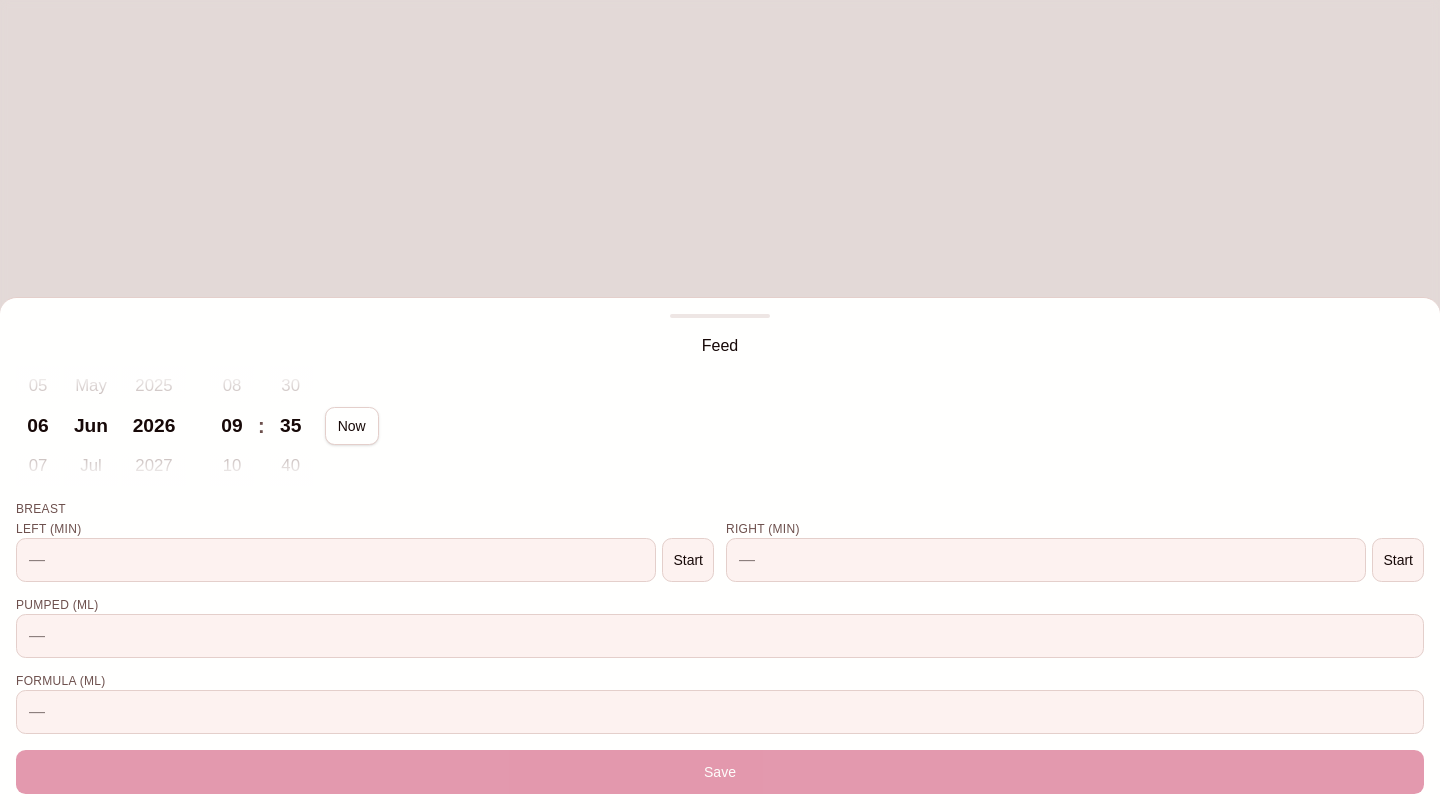
EventSheet — feed › Save button enables once a field is filled
Type "5" into the number field labelled "Left (min)".
click(336, 560); type("5")  # box x1=16 y1=538 x2=656 y2=582
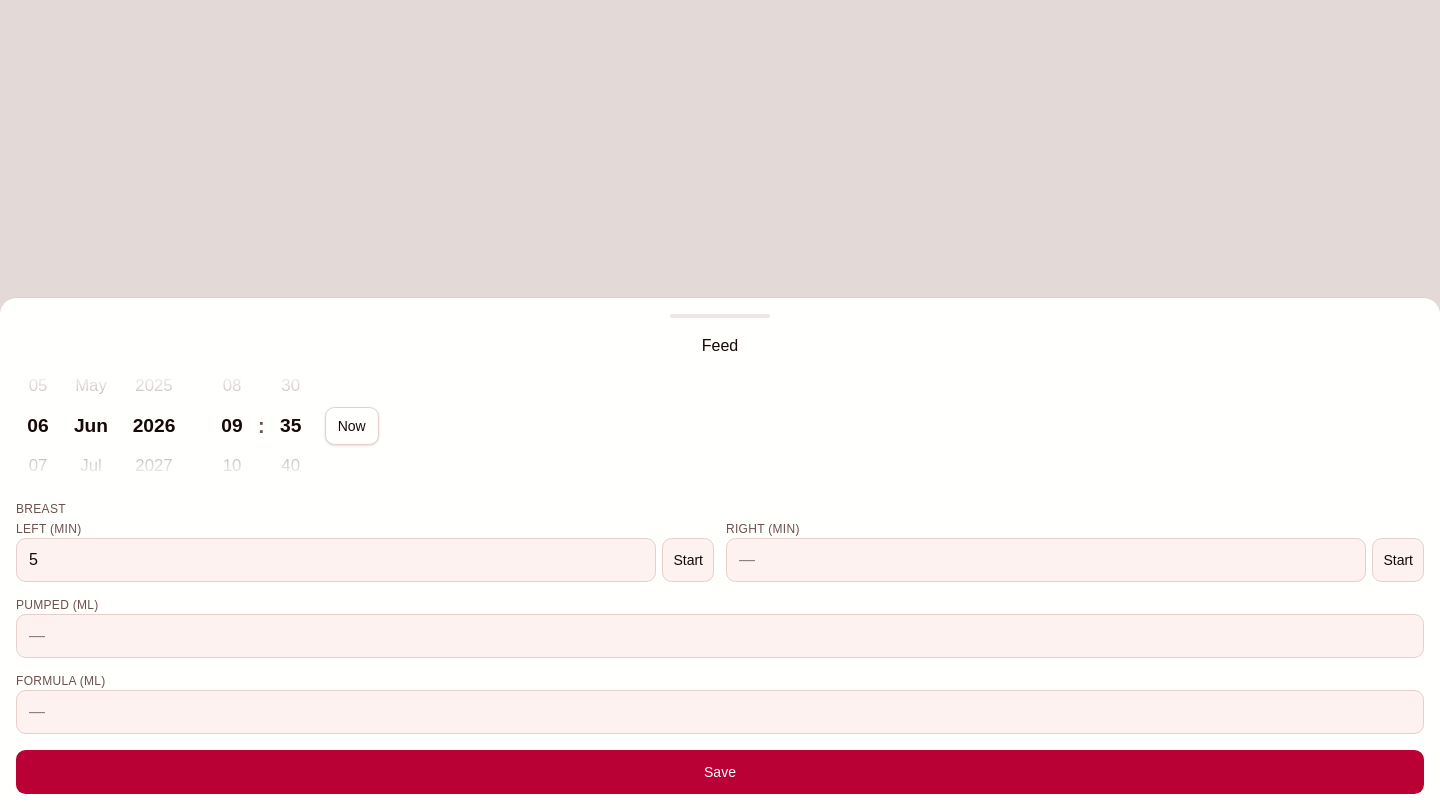
Check: the button "Save" is enabled, box x1=16 y1=750 x2=1424 y2=794
